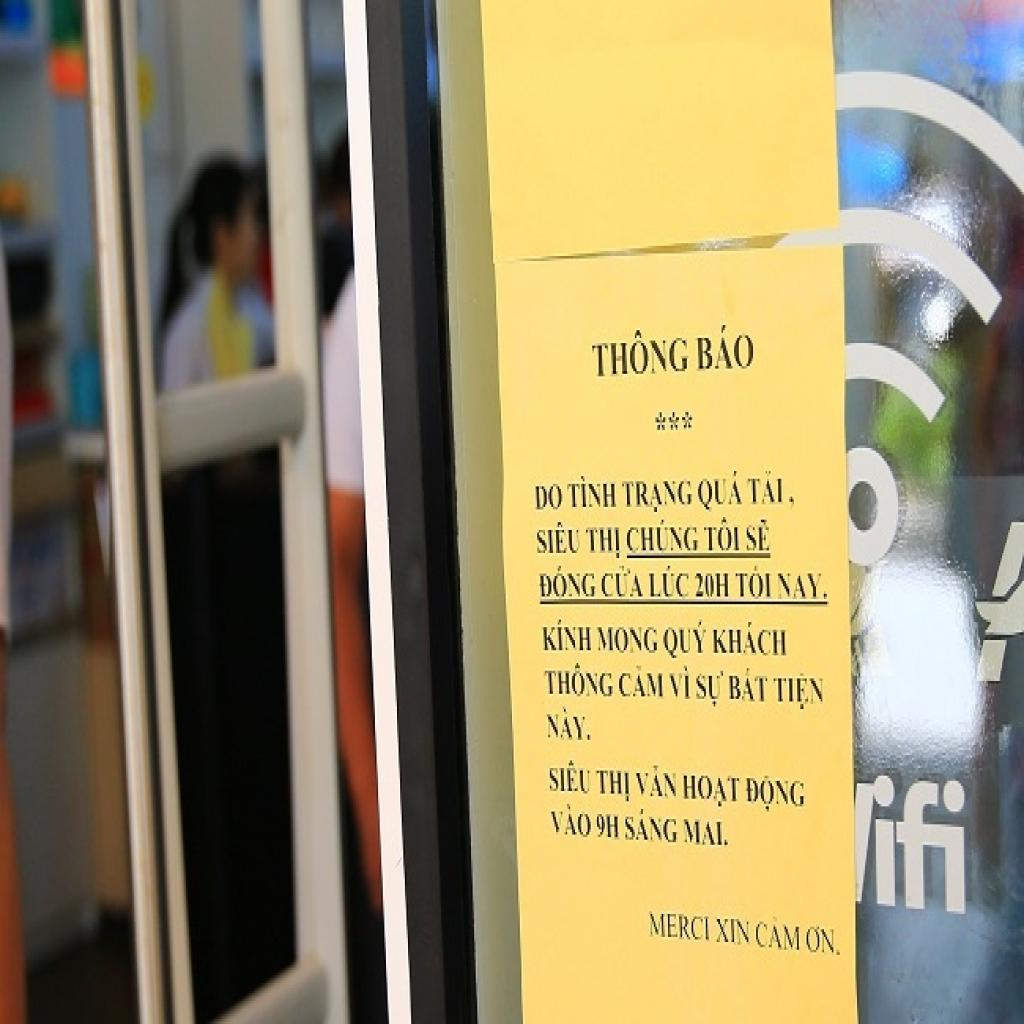text: (871, 771, 969, 919), (590, 328, 692, 384), (695, 320, 758, 376), (710, 620, 790, 660), (625, 517, 701, 558), (542, 660, 616, 702), (620, 476, 694, 517), (745, 773, 807, 817), (682, 770, 744, 812), (696, 466, 745, 517), (537, 563, 599, 602), (624, 806, 680, 848), (745, 468, 797, 512), (772, 671, 825, 714), (649, 908, 712, 944), (662, 617, 709, 663), (596, 625, 660, 658), (618, 660, 666, 704), (540, 617, 594, 655), (566, 474, 619, 512), (545, 704, 594, 745), (754, 914, 802, 955), (776, 568, 832, 602), (633, 763, 679, 804), (536, 520, 583, 560), (547, 802, 594, 842), (600, 563, 648, 602), (728, 663, 770, 707), (548, 758, 594, 798), (648, 563, 693, 602), (584, 522, 624, 563), (703, 514, 742, 556), (682, 817, 731, 850), (734, 563, 774, 602), (594, 766, 633, 806), (693, 666, 726, 712), (654, 407, 696, 438), (693, 568, 731, 602), (716, 916, 752, 950), (666, 663, 694, 704), (745, 517, 774, 556), (534, 481, 566, 515), (594, 809, 621, 845)
